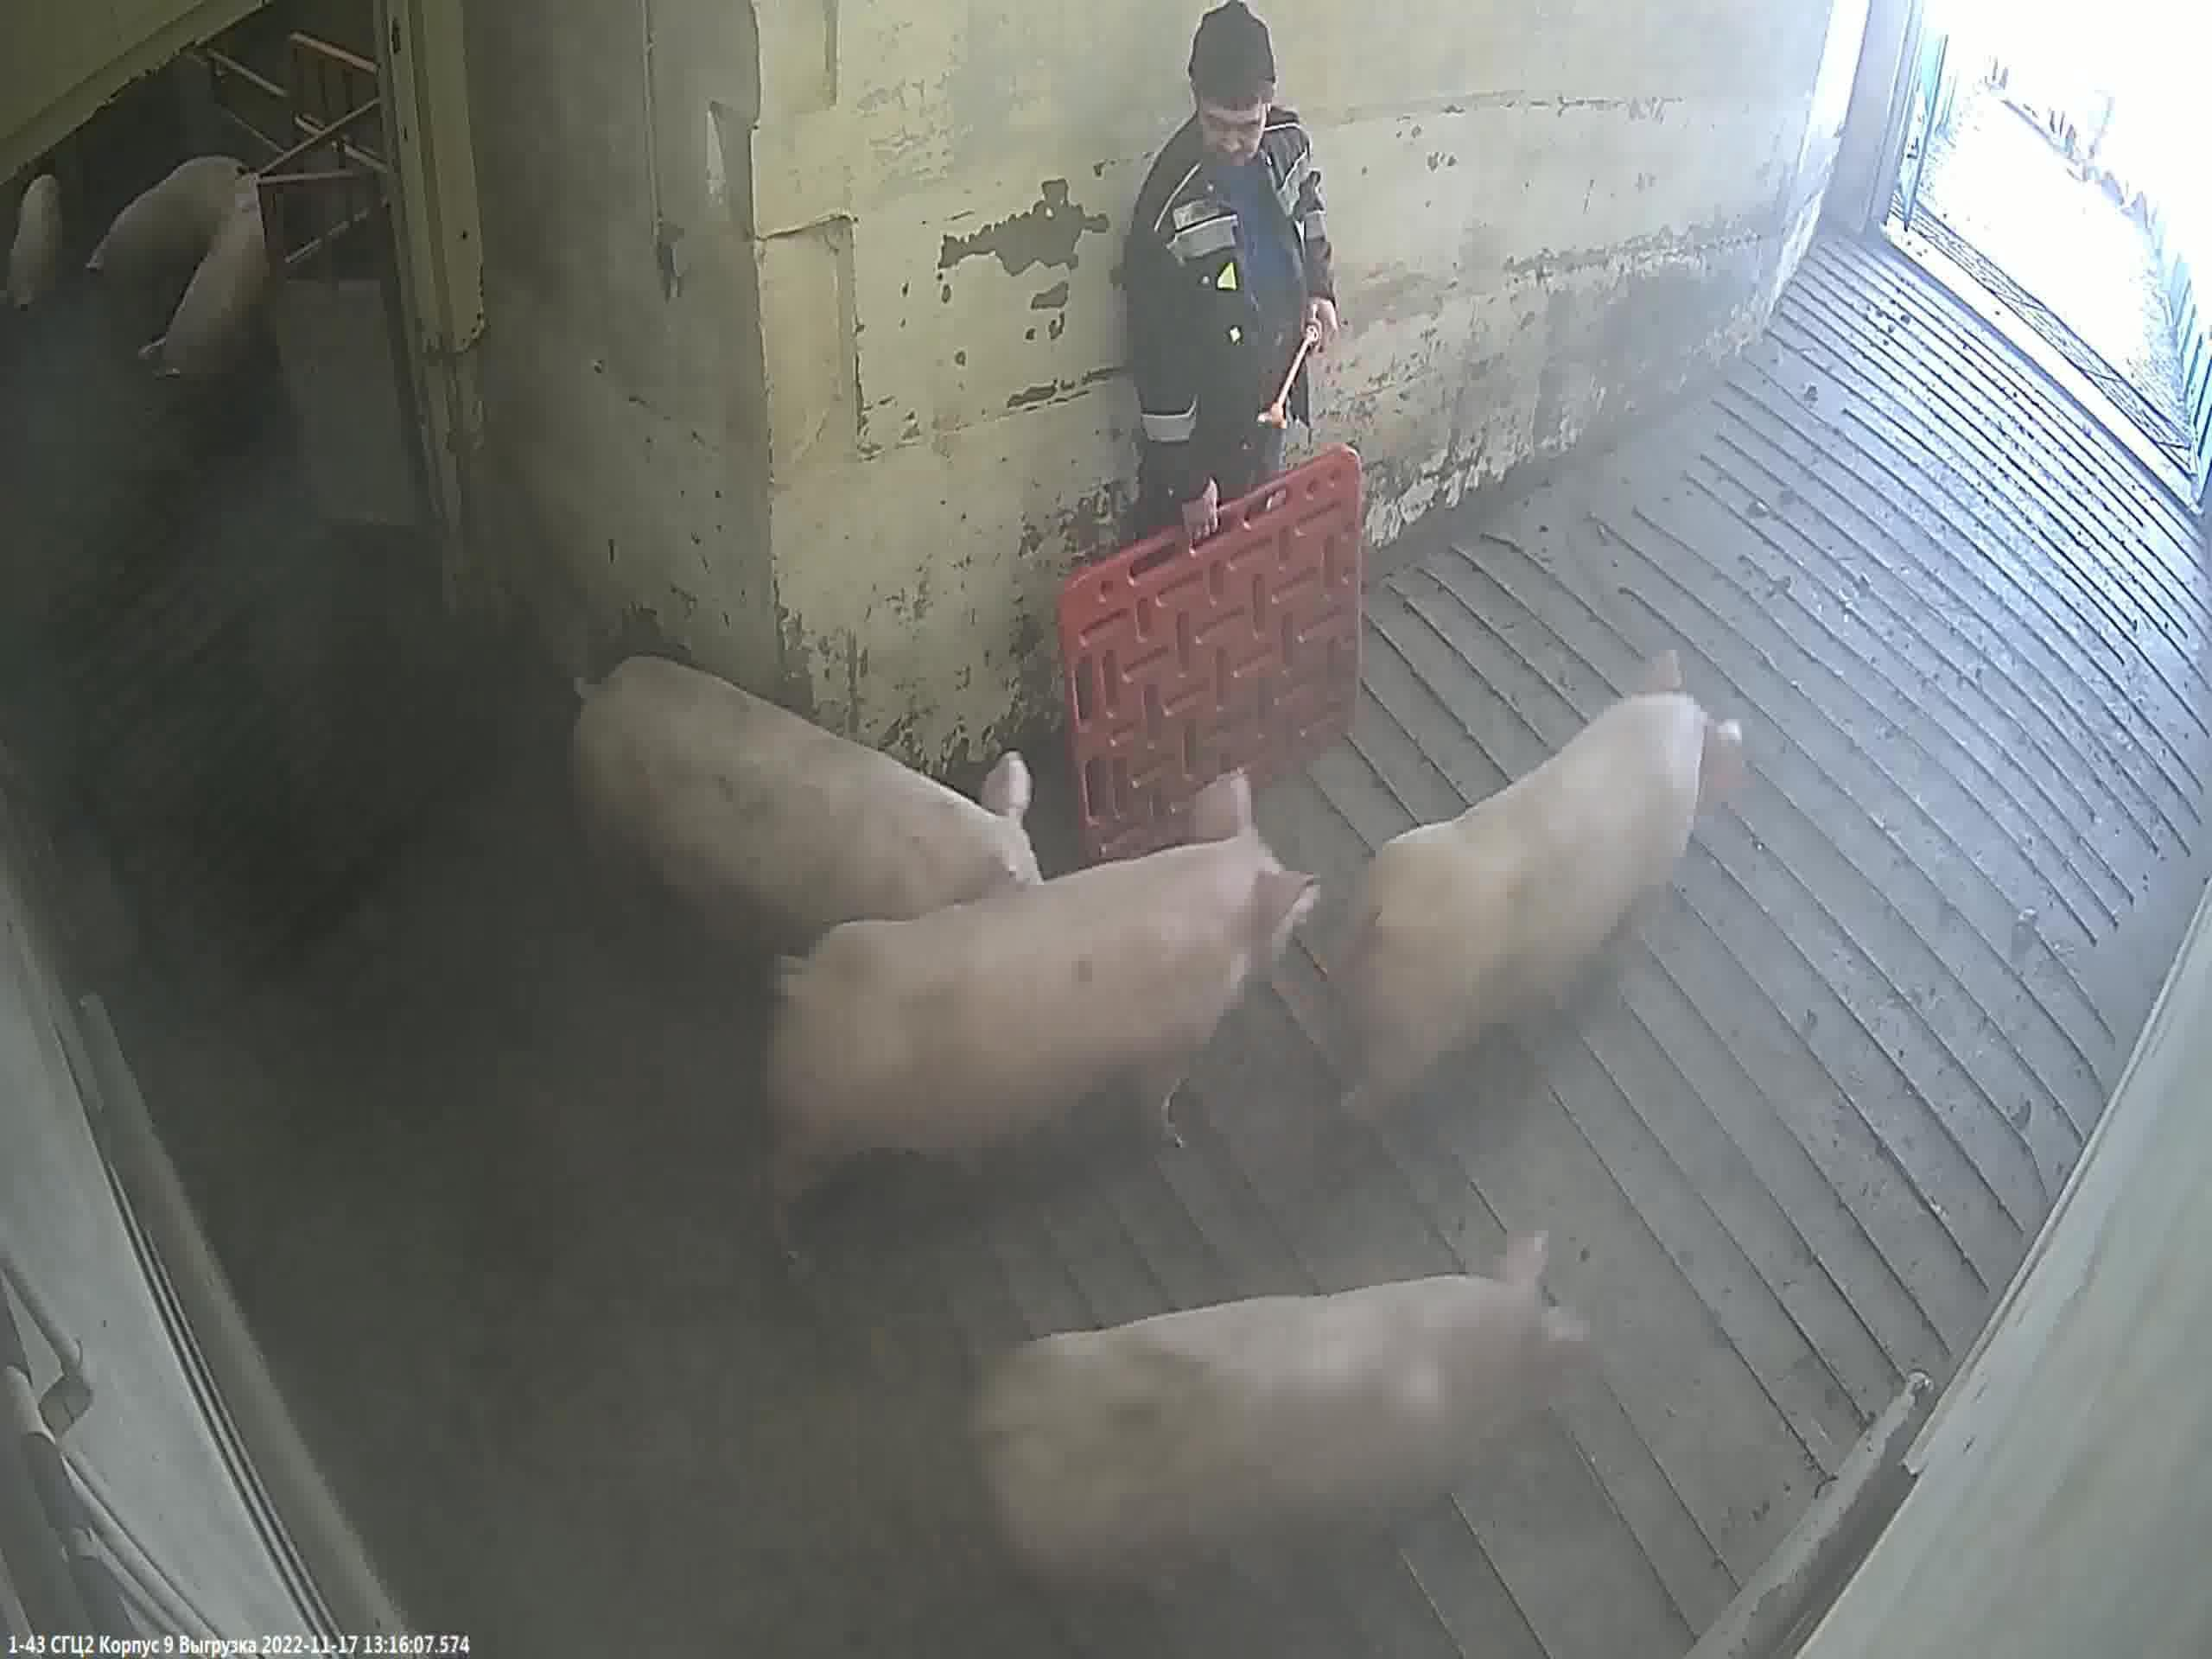Pigs: (765, 828, 1322, 1258), (988, 1237, 1552, 1640), (1298, 688, 1745, 1141), (571, 659, 1043, 962), (131, 186, 270, 422), (89, 157, 237, 333), (3, 181, 66, 310)
